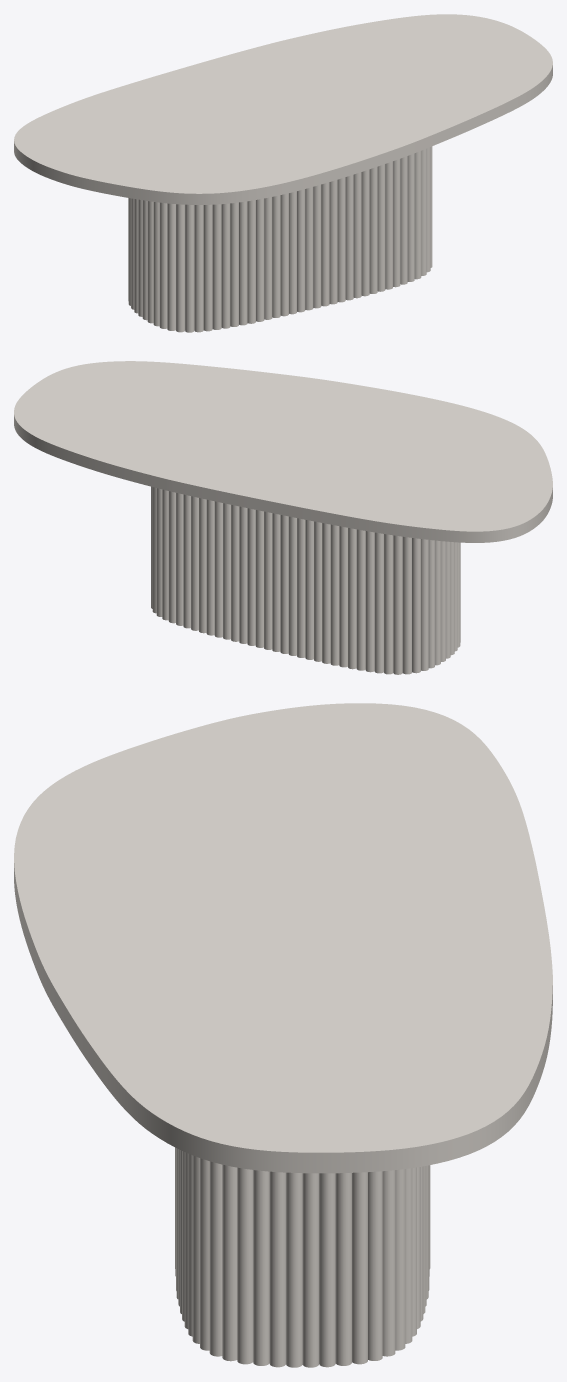
The model's file is pearlwhite_leaf2_standard_newtable.glb.
The picture shows the model from 3 angles, top to bottom: view 1: azimuth 30°, elevation 25°; view 2: azimuth 150°, elevation 25°; view 3: azimuth 270°, elevation 25°; orthographic projection. The views are drawn at different scales.
Visible parts, largest first — view 1: standard_leaf2, plane; view 2: standard_leaf2, plane; view 3: standard_leaf2, plane.
Part boxes in pixels (x1=…): standard_leaf2: x1=14, y1=14, x2=552, y2=204; plane: x1=128, y1=146, x2=432, y2=332; standard_leaf2: x1=14, y1=361, x2=552, y2=542; plane: x1=151, y1=486, x2=460, y2=674; standard_leaf2: x1=14, y1=703, x2=552, y2=1173; plane: x1=175, y1=1147, x2=430, y2=1367.
Size of the model in its own units: 7.5 by 2.52 by 3.8.
Materials: 2 (2 with a texture image).
